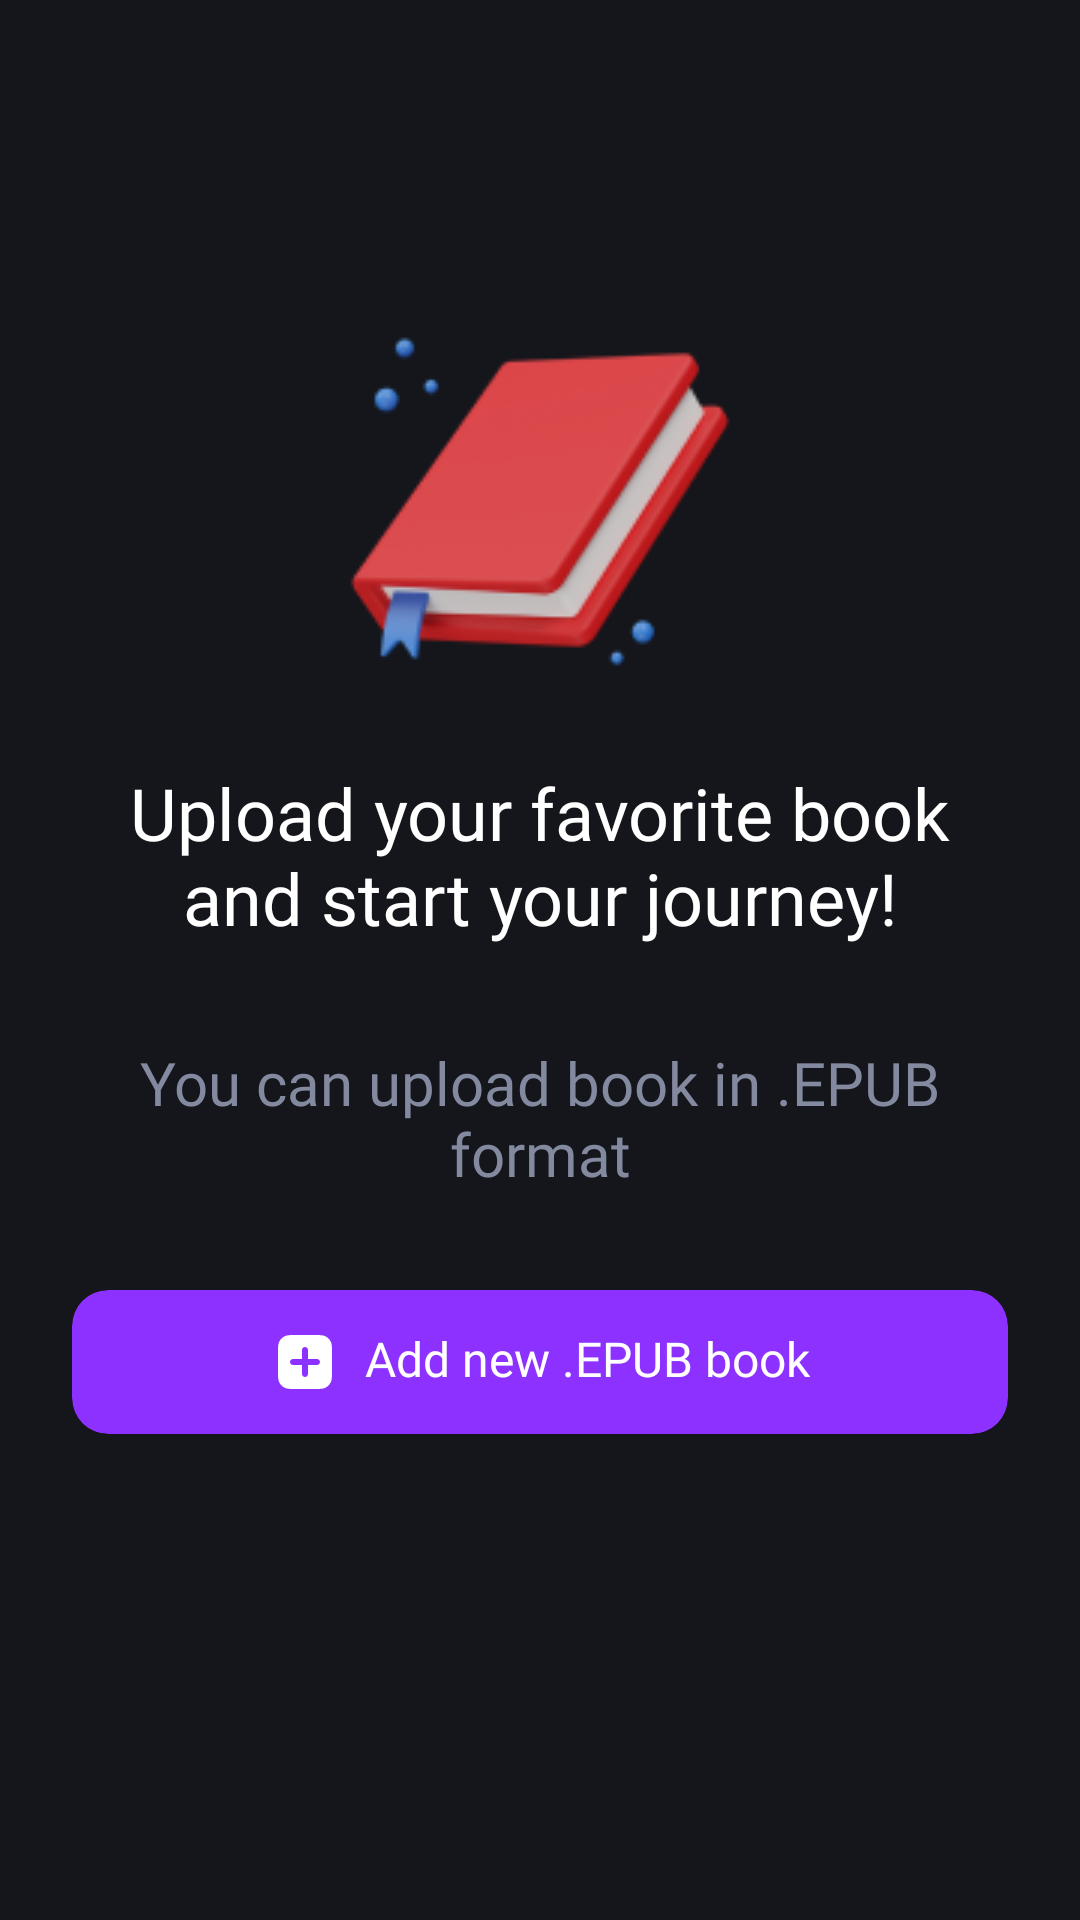

Named icons in this screenshot (1080px×1920px) and their bounding boxes, box=[x1, y1, x2, y2]:
plus: box=[278, 1335, 332, 1389]
